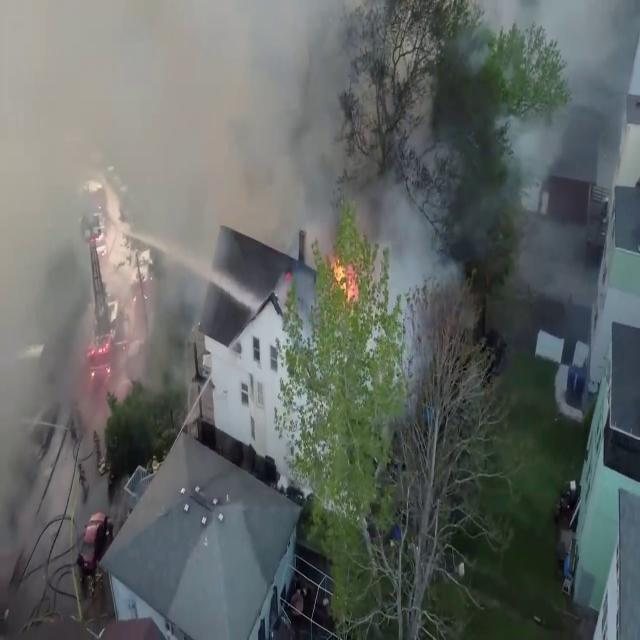Fire: (327, 248, 357, 302)
Smoke: (0, 0, 397, 418), (495, 0, 640, 234)
